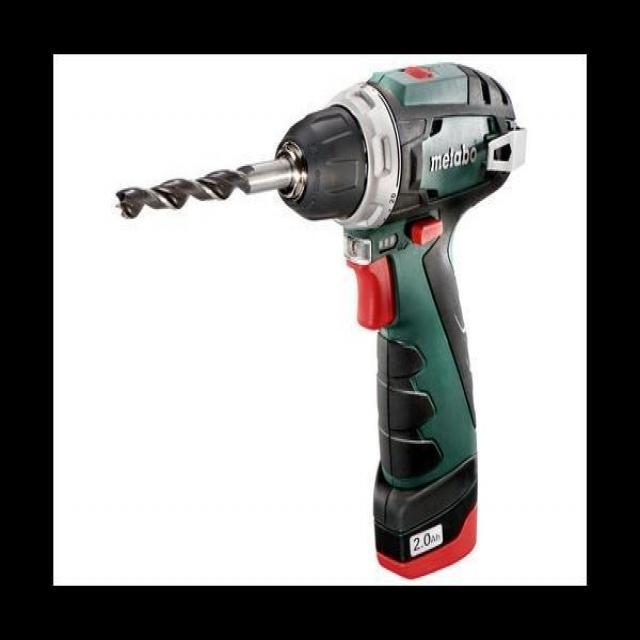drill: (113, 62, 526, 580)
